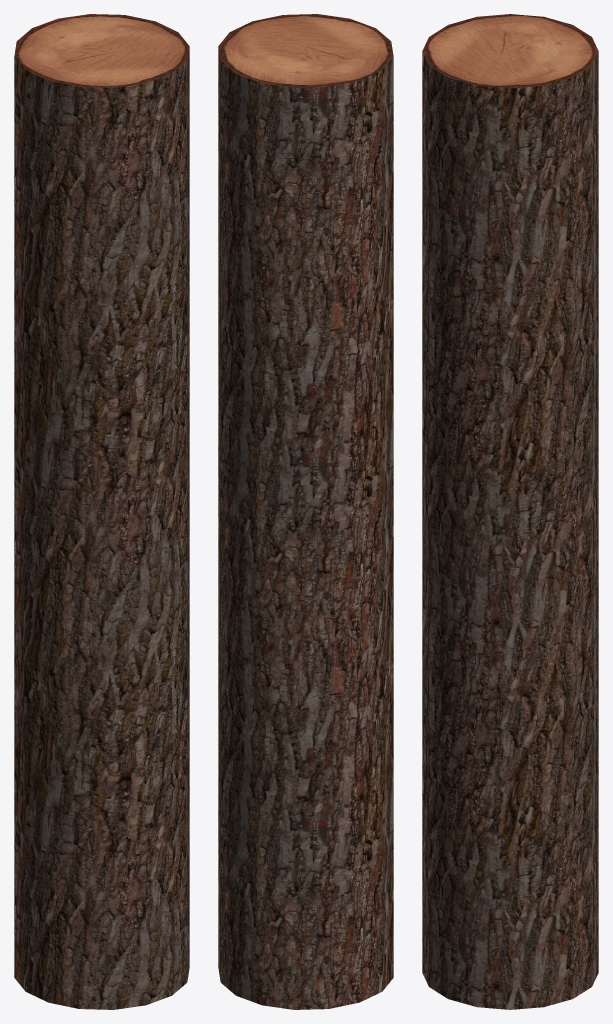
File: Trunk.fbx
The picture shows the model from 3 angles, left to right: view 1: azimuth 30°, elevation 25°; view 2: azimuth 150°, elevation 25°; view 3: azimuth 270°, elevation 25°; orthographic projection.
Parts seen in each view (by area): view 1: Trunk; view 2: Trunk; view 3: Trunk.
Part boxes in pixels (<box>): Trunk: <box>14,14,189,1009</box>; Trunk: <box>218,14,393,1009</box>; Trunk: <box>422,14,598,1009</box>.
Size of the model in its own units: 1.5 by 8.61 by 1.5.
